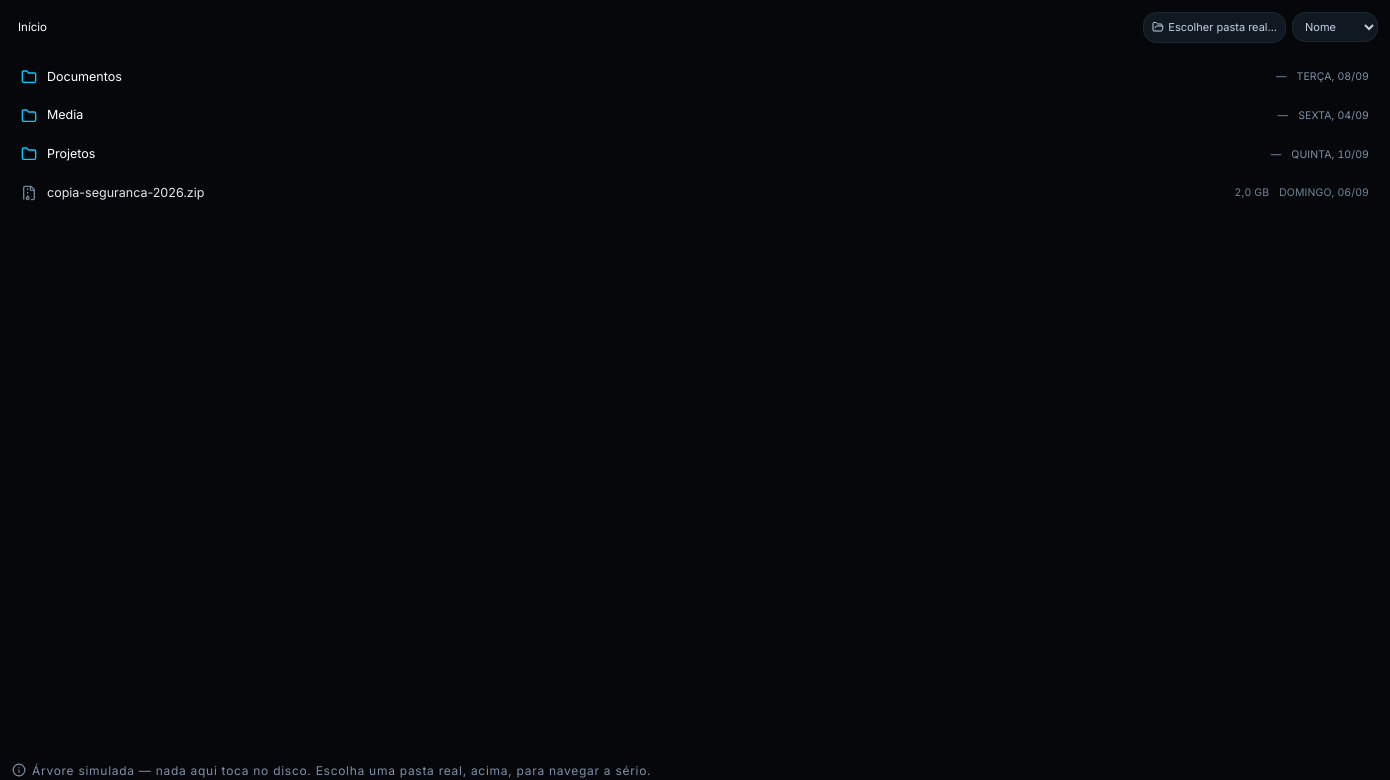
Scenario: FilesWindow — modo real › voltar à árvore simulada esquece a pasta guardada
Step 1. Click the button "Escolher pasta real…" → (1215, 27), box x1=1143 y1=12 x2=1286 y2=42
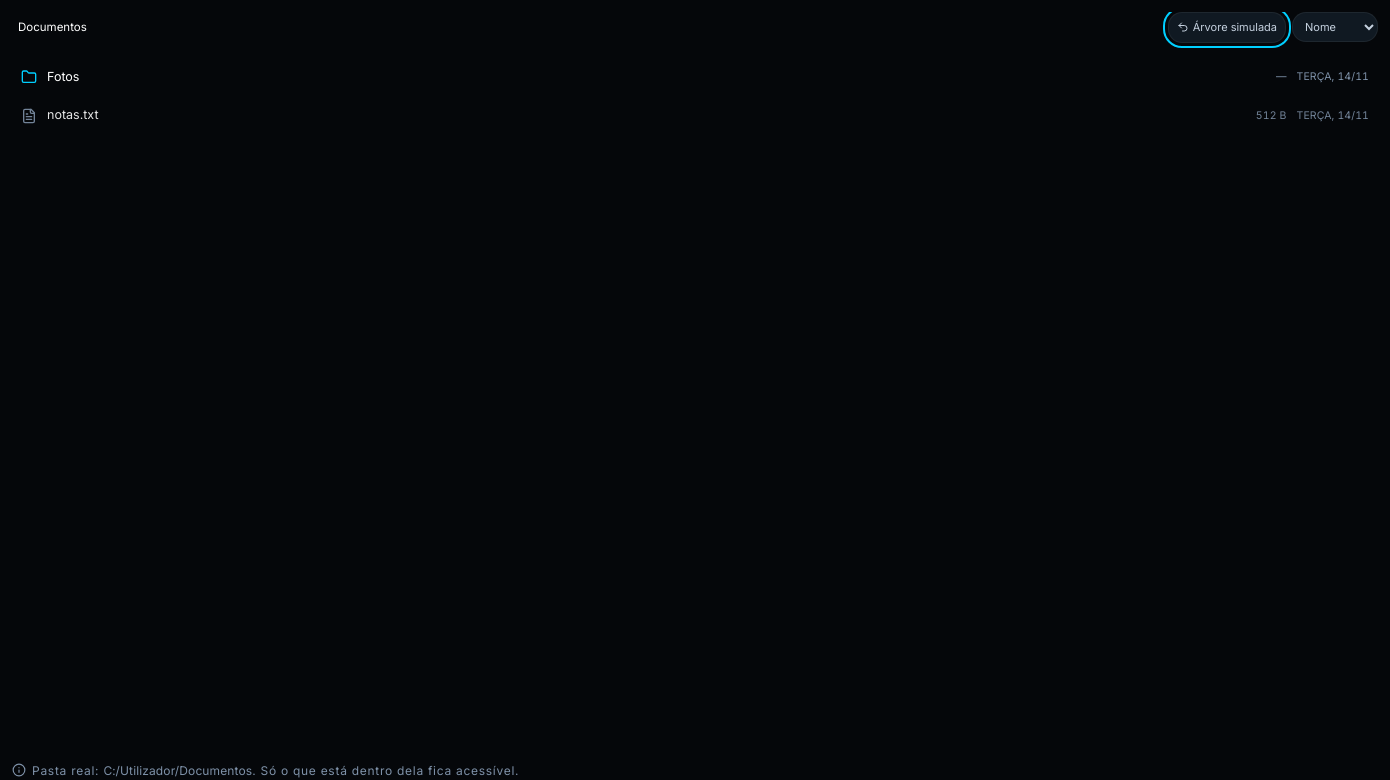
Expected: the button "Árvore simulada" is shown
Step 2. Click the button "Árvore simulada" → (1227, 27), box x1=1168 y1=12 x2=1286 y2=42
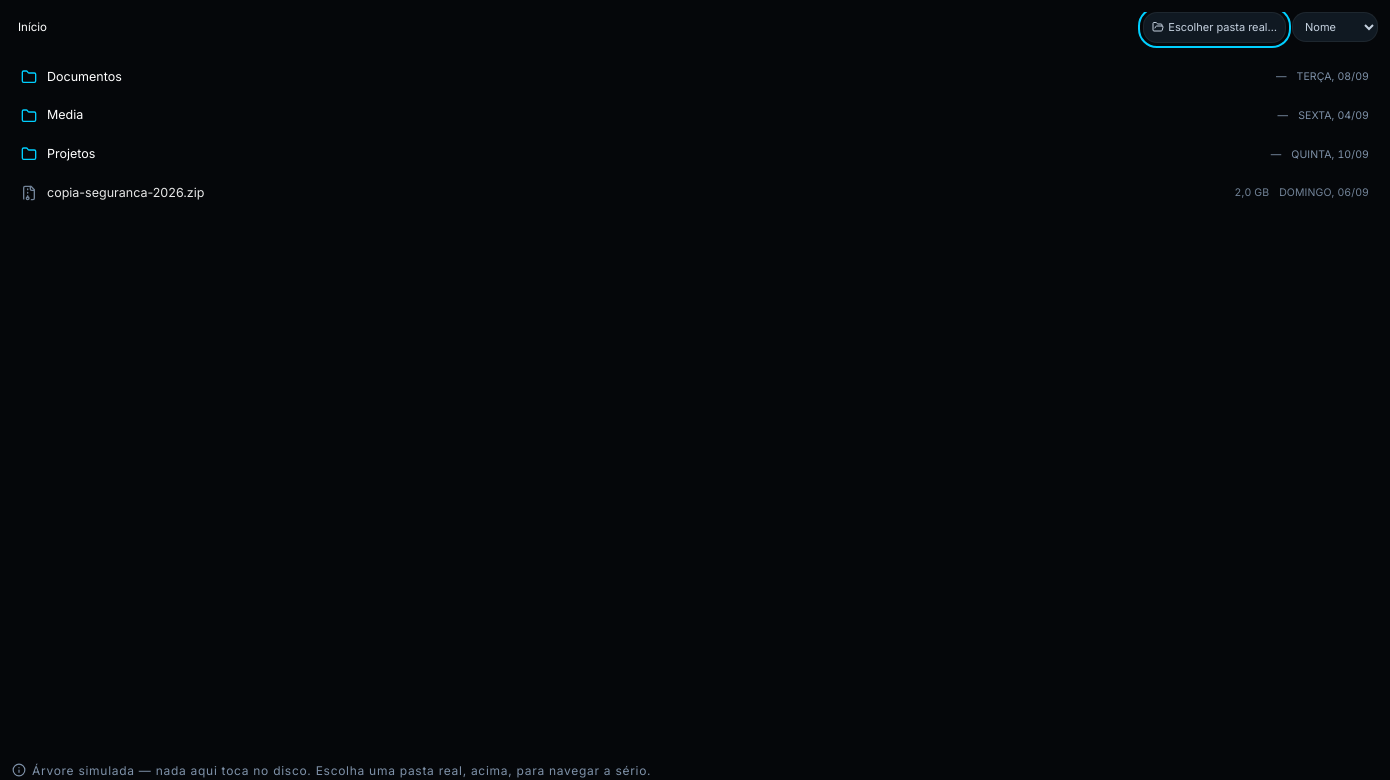
Expected: the button "Documentos — TERÇA, 08/09" is shown, x1=12 y1=58 x2=1378 y2=95
